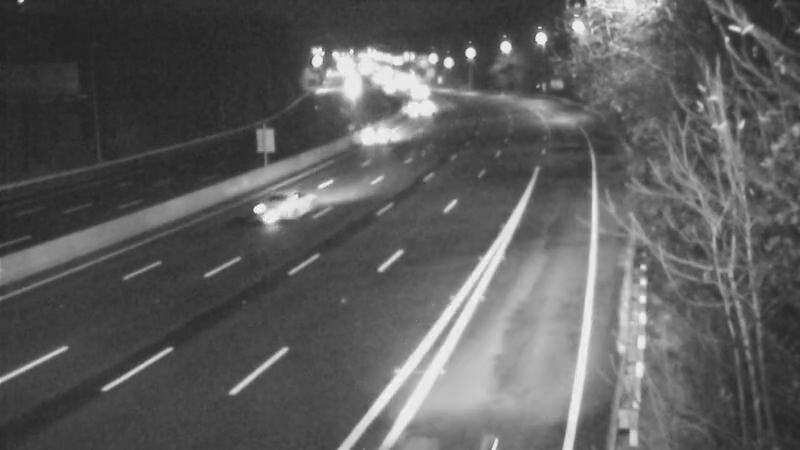vehicle: (233, 172, 313, 252), (391, 68, 441, 118), (398, 82, 448, 132), (350, 111, 400, 161)
